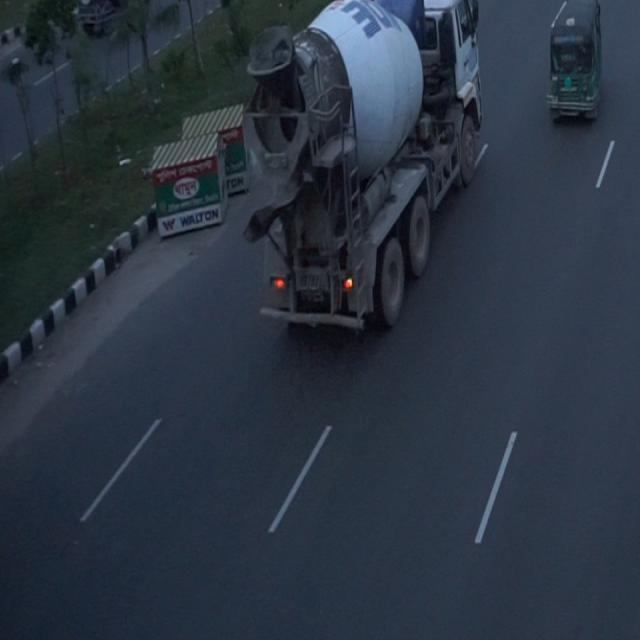van: (249, 0, 492, 345)
